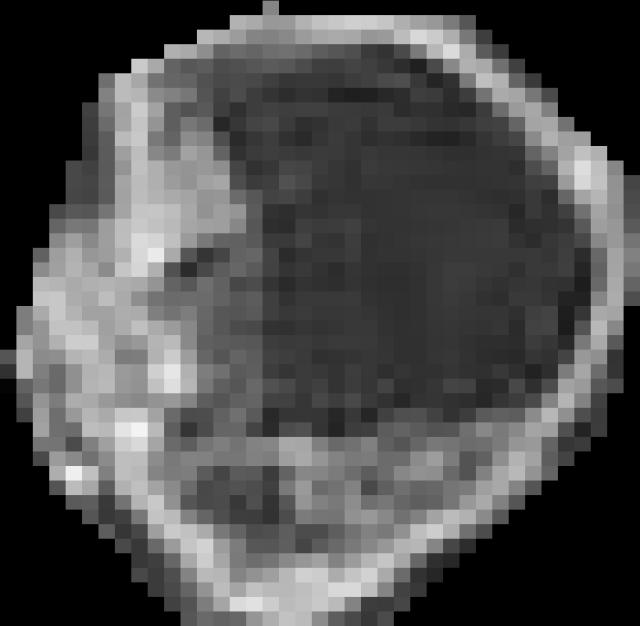tumor_good_chance: (0, 1, 640, 626)
